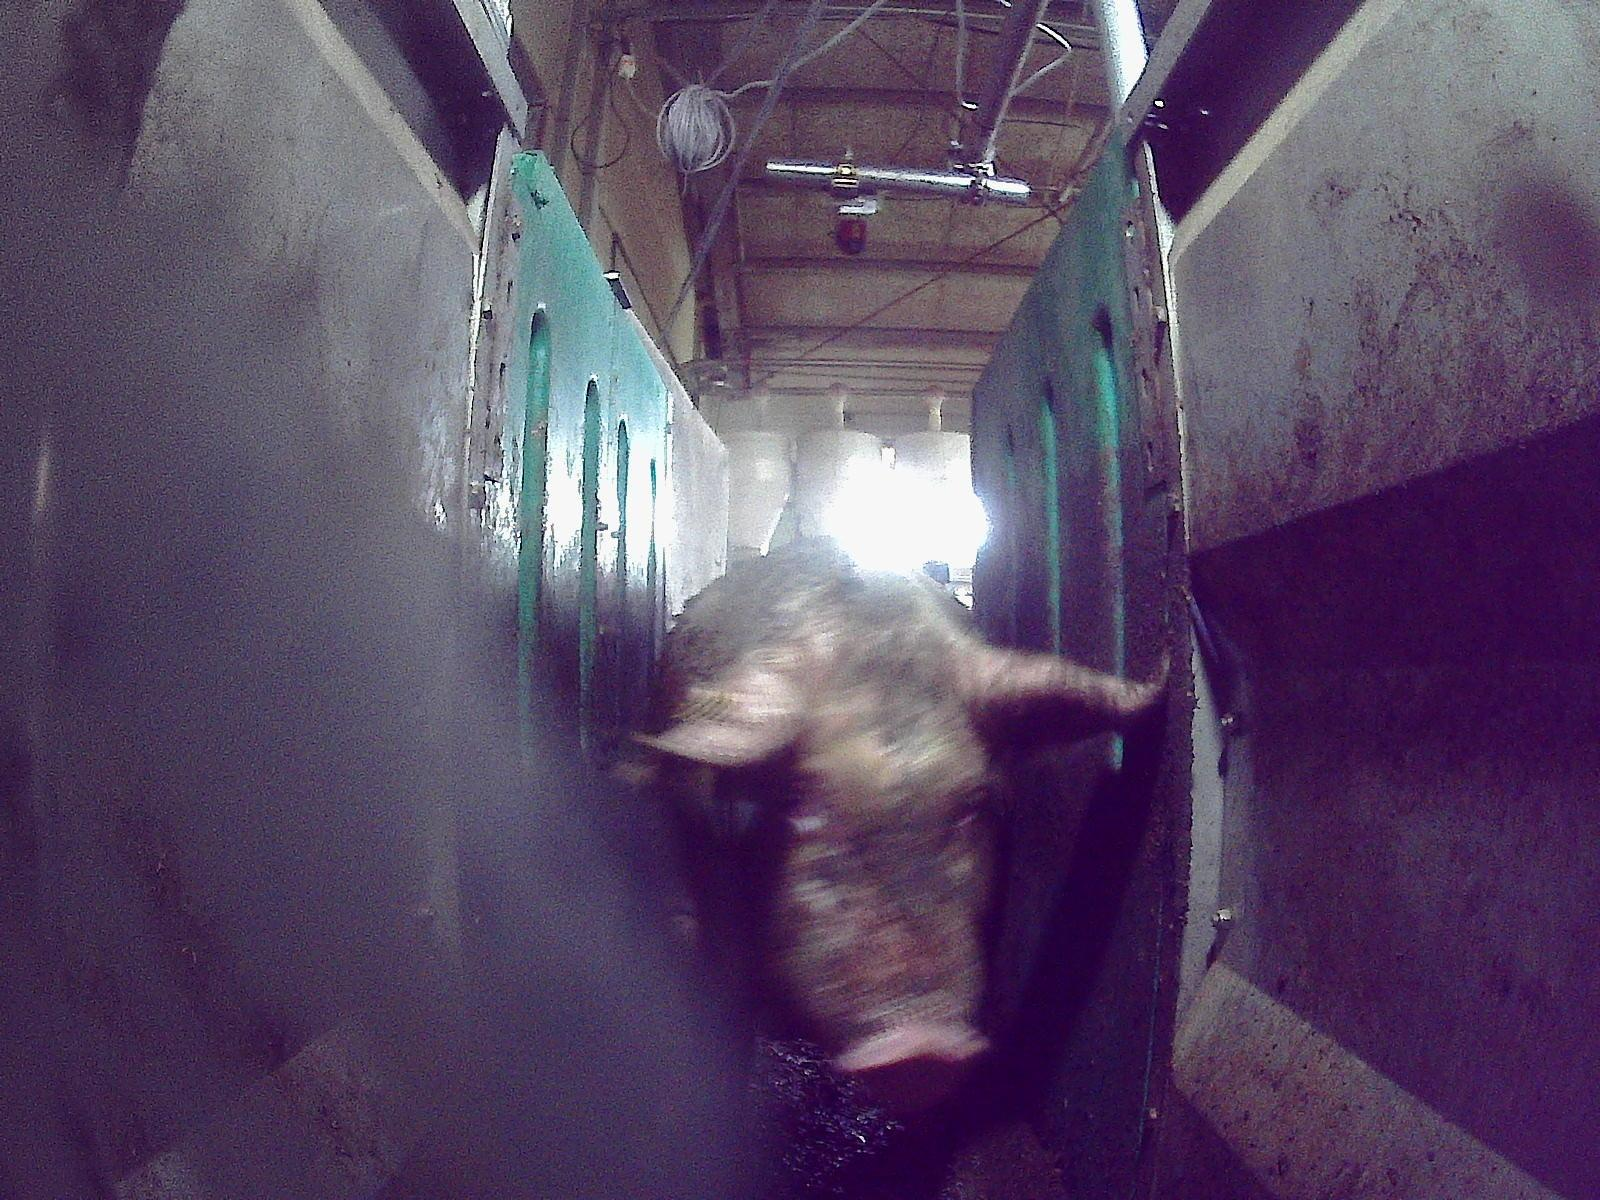Face: (722, 592, 1001, 1114)
